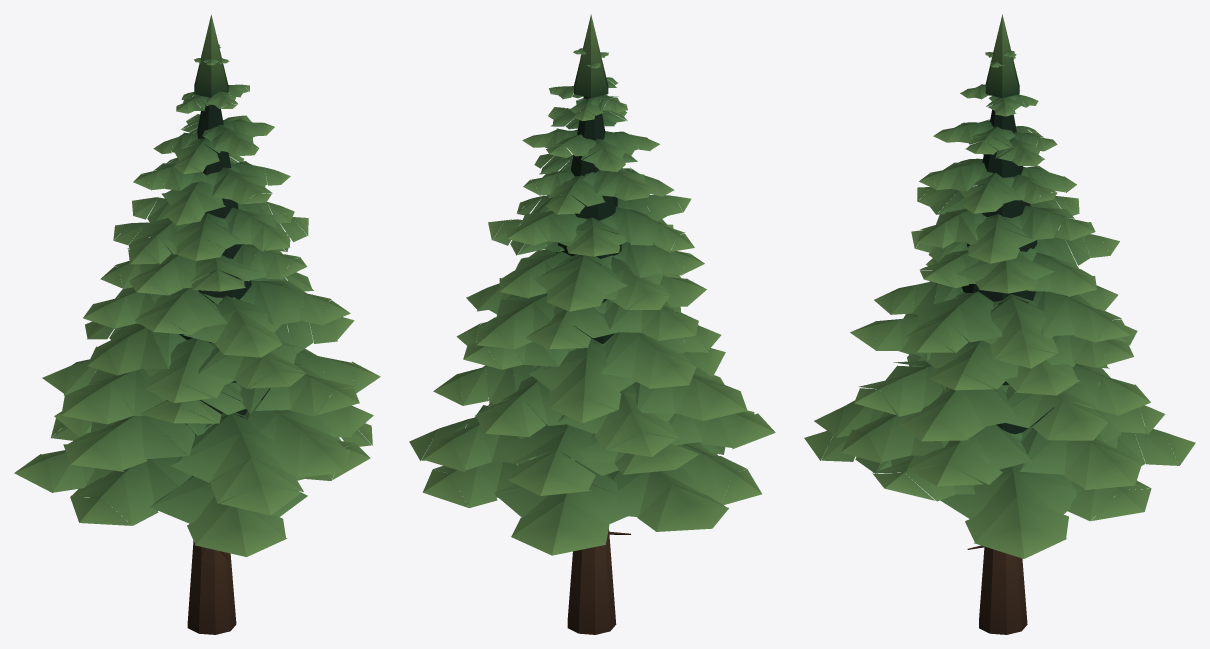
The model's file is valley-pine_c.glb.
3 renders of one model, left to right at view 1: azimuth 30°, elevation 25°; view 2: azimuth 150°, elevation 25°; view 3: azimuth 270°, elevation 25°, orthographic.
Visible parts, largest first — view 1: pine_c; view 2: pine_c; view 3: pine_c.
Part boxes in pixels (x1,y1,x2,y2): pine_c: (14, 15, 380, 634); pine_c: (409, 14, 775, 634); pine_c: (804, 14, 1195, 634).
Bounding box in the file's own units: 11.66 × 20.36 × 11.84.
